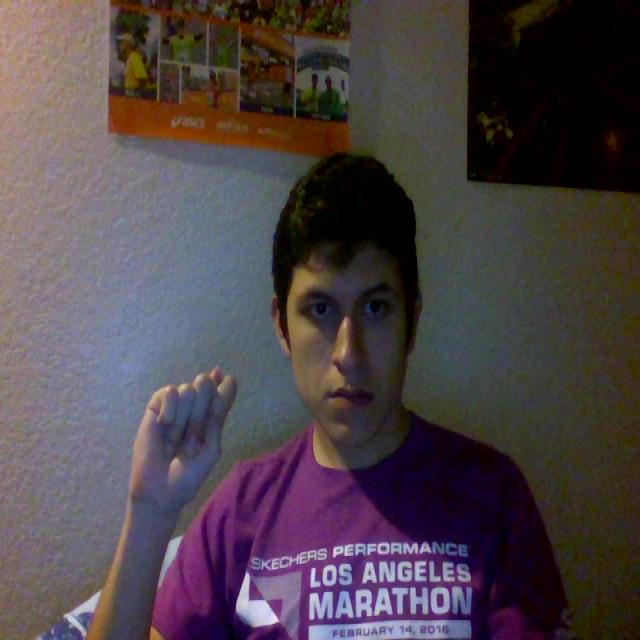T: (106, 330, 248, 525)
